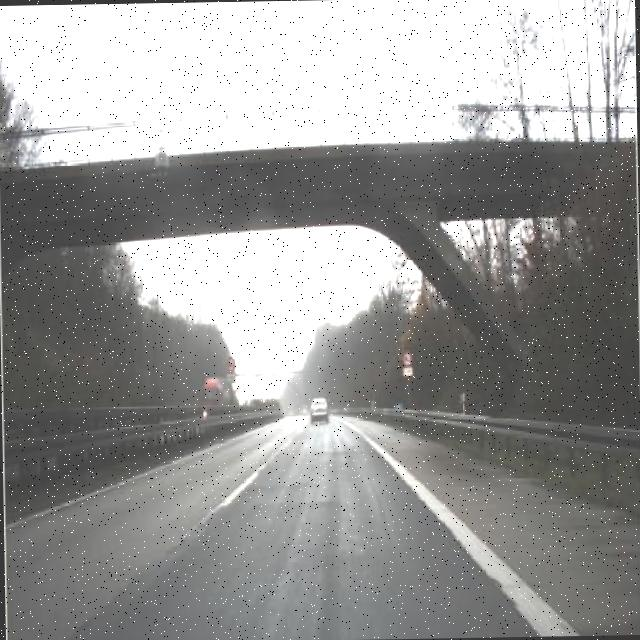Zakaz wyprzedzania: (225, 353, 238, 375), (400, 348, 412, 368)
